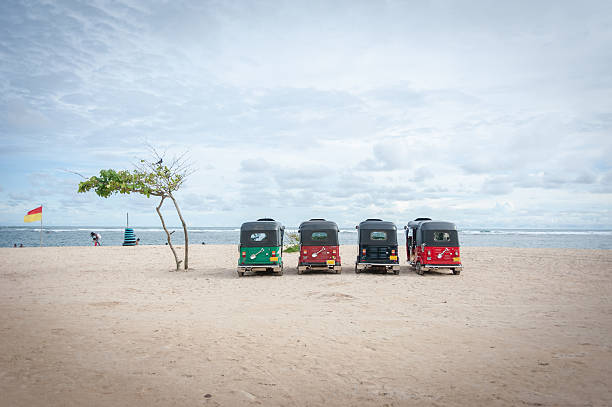threewheel: (405, 217, 463, 277), (237, 219, 286, 278), (354, 218, 400, 276), (296, 220, 343, 276)
